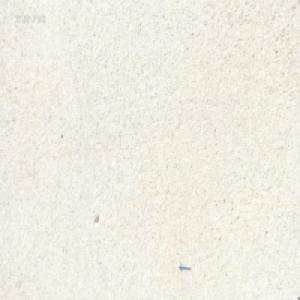Nail: (178, 261, 190, 270)
